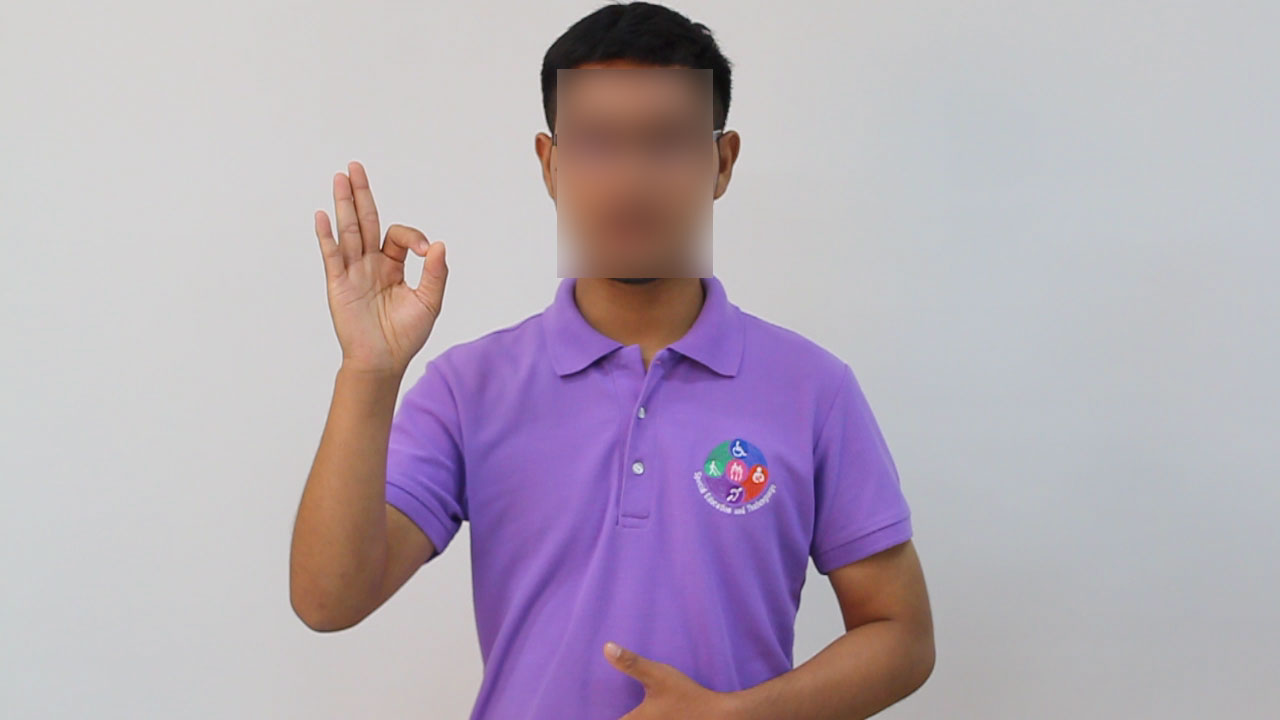for: (310, 148, 451, 390)
